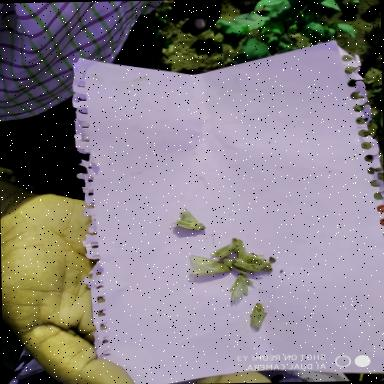abw: (188, 252, 232, 279), (208, 234, 248, 260), (173, 205, 206, 235), (228, 274, 252, 306), (248, 301, 268, 332)
